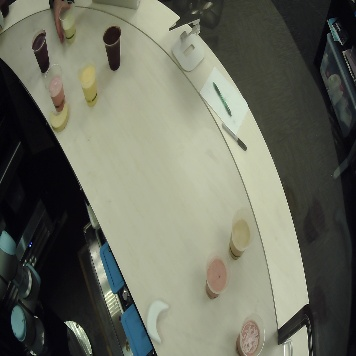full_cup: (234, 304, 269, 356), (203, 241, 230, 304), (228, 205, 257, 262), (75, 55, 104, 110), (97, 19, 126, 74), (28, 21, 57, 75), (41, 60, 70, 110), (55, 1, 79, 45)
puck: (134, 289, 177, 347), (43, 100, 75, 138)
